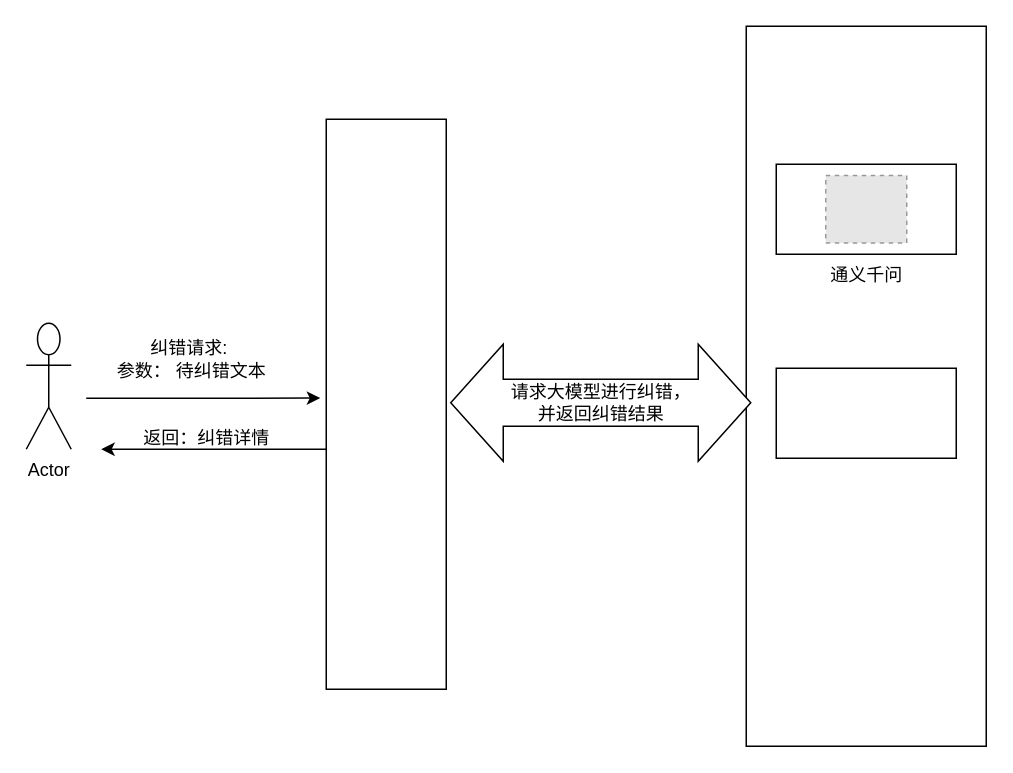
The diagram is 1013 pixels wide and 773 high, and some of its shapes have lost their labels. Grey dashed boxes stand in for pictures. Each missing label, with the centre of its shape:
MacBERT: the point at 865,412
纠错API 将大模型处理结果格式化为统一的 消息格式: the point at 385,403
